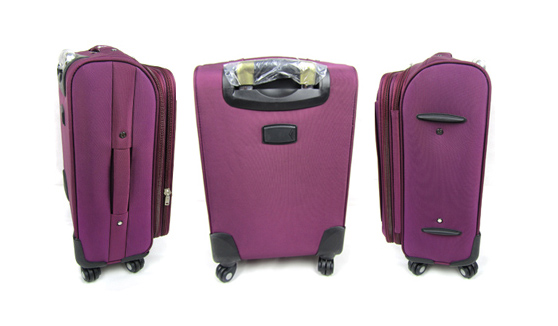luggage: (189, 53, 361, 284), (56, 41, 182, 283), (368, 46, 494, 281)
